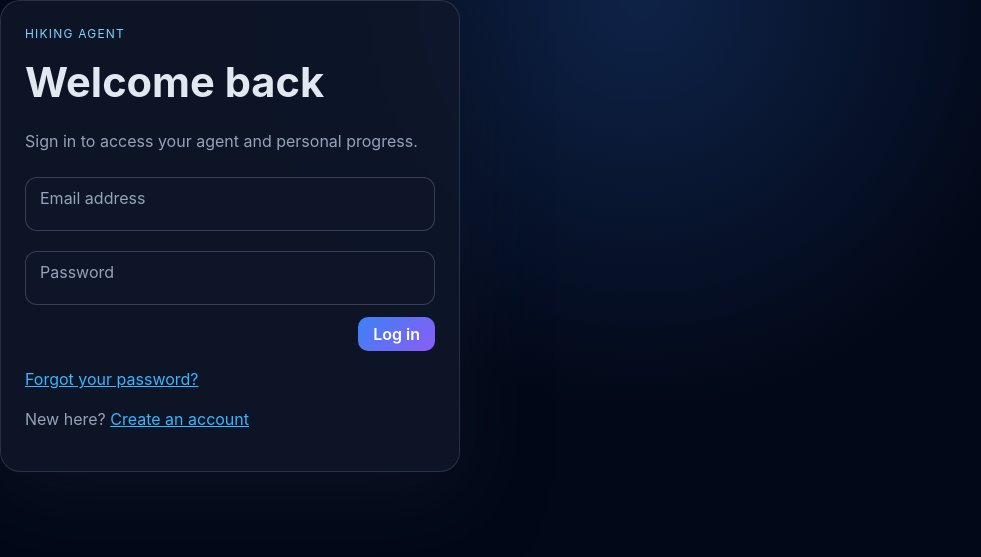
Test case: AuthForm › redirects automatically when the refresh expiry deadline is reached
This screenshot has width=981, height=557.
Type "hiker@example.test" into the field labelled "Email address" at (230, 204), box [25,177,435,231]
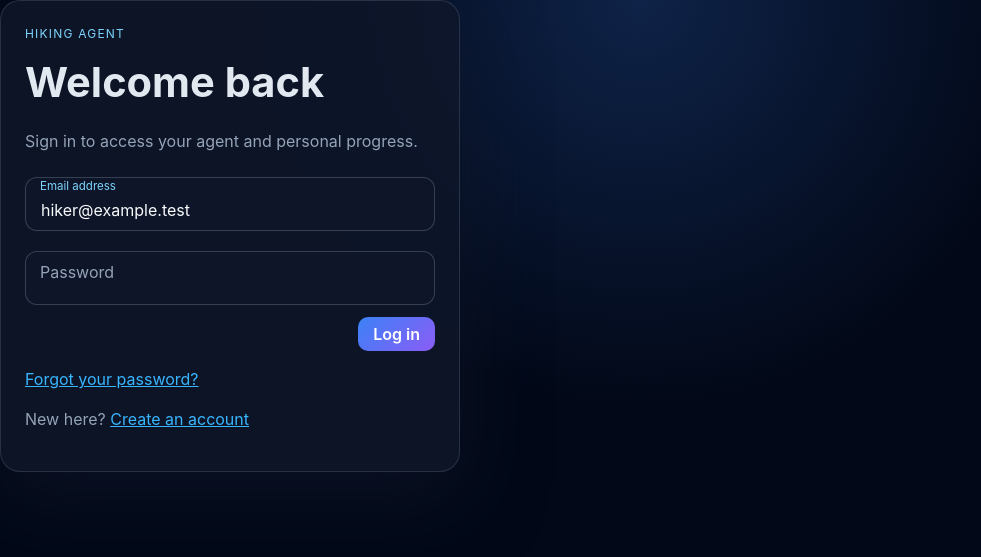
Type "correct password" into the password field labelled "Password" at (230, 278), box [25,251,435,305]
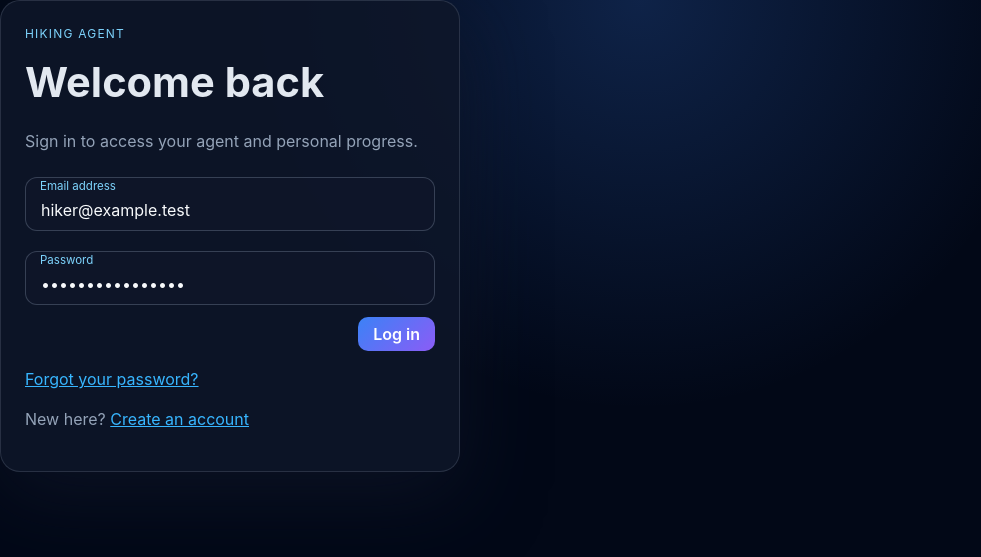
Submit the form from the button "Log in", box [358,317,435,351]
Wait 1000 ms
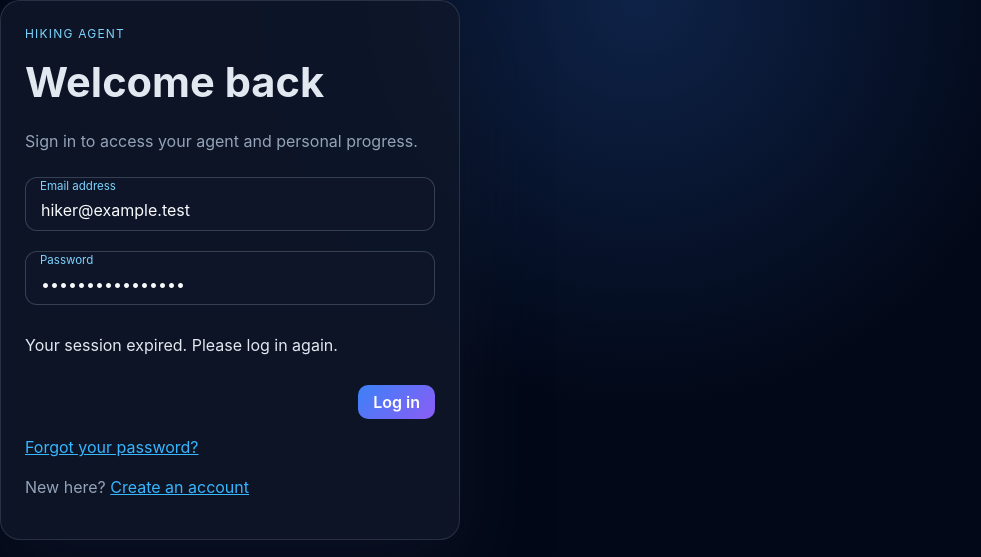
expect the message reads "Your session expired. Please log in again.": met, box [25,335,338,355]
